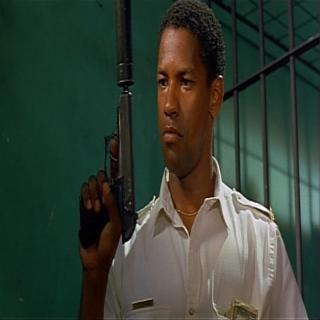gun: (77, 1, 139, 253)
